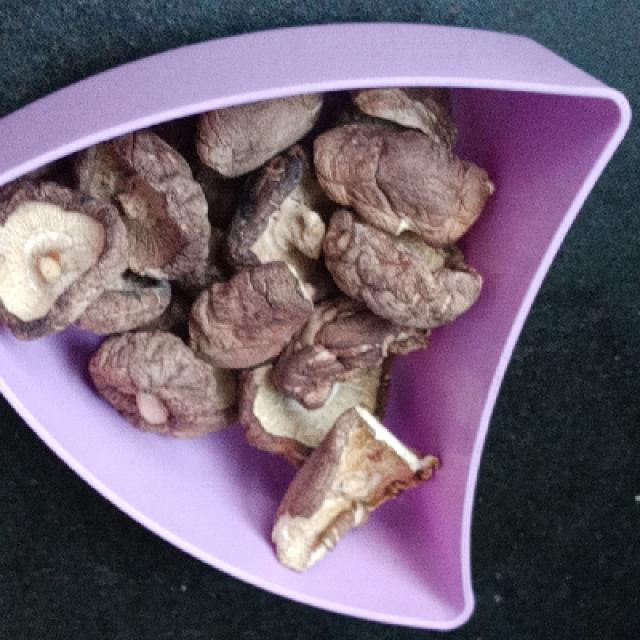Lentinus edodes: (265, 403, 444, 569), (0, 183, 137, 338), (309, 129, 496, 238), (329, 209, 489, 333), (81, 147, 211, 281), (97, 328, 230, 431), (184, 263, 315, 367), (197, 97, 321, 179)
